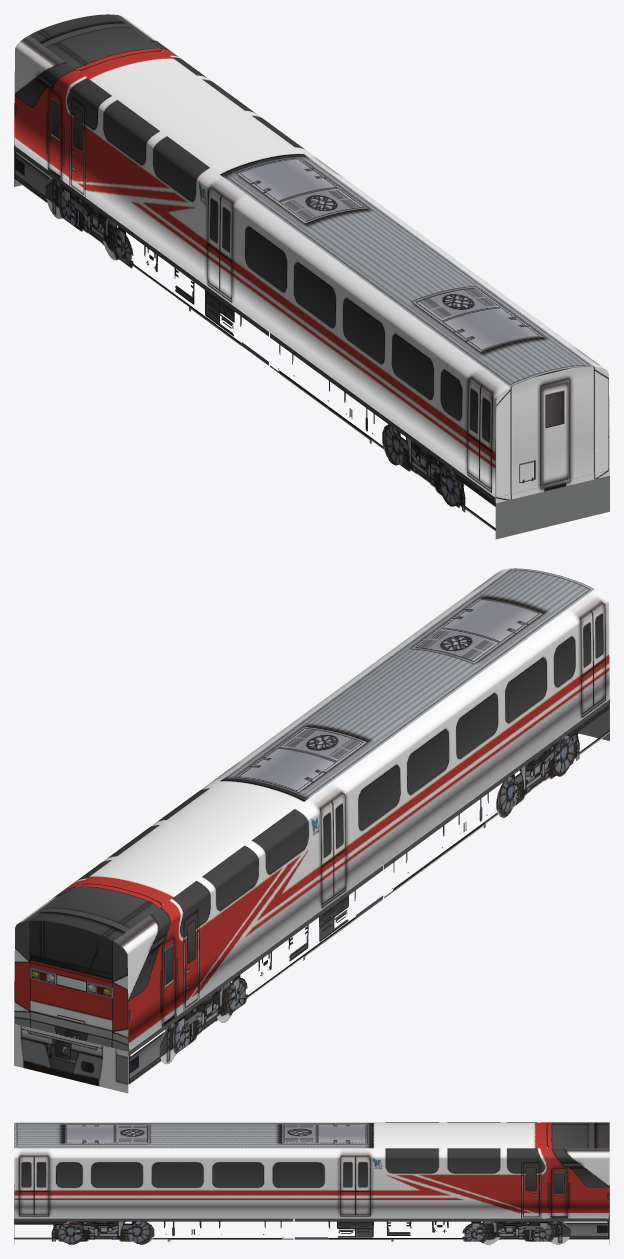
File: car4.glb
3 renders of one model, top to bottom at view 1: azimuth 30°, elevation 25°; view 2: azimuth 150°, elevation 25°; view 3: azimuth 270°, elevation 25°, orthographic. The views are drawn at different scales.
Visible parts, largest first — view 1: meitetsu-1200-car4; view 2: meitetsu-1200-car4; view 3: meitetsu-1200-car4.
Boxes of the visible parts, left/top/right/bottom form: meitetsu-1200-car4: left=14, top=14, right=609, bottom=539; meitetsu-1200-car4: left=14, top=568, right=609, bottom=1093; meitetsu-1200-car4: left=14, top=1122, right=609, bottom=1244.
Size of the model in its own units: 2.74 by 3.52 by 20.03.
Materials: 9 (8 with a texture image).
